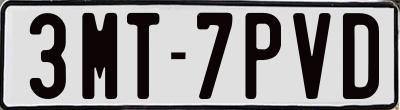3: (28, 12, 65, 98)
7: (195, 11, 236, 97)
D: (340, 10, 380, 97)
M: (79, 10, 119, 96)
P: (245, 11, 281, 99)
T: (126, 11, 164, 101)
V: (292, 10, 331, 99)
